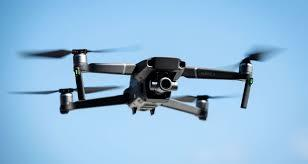drone: (35, 29, 268, 133)
